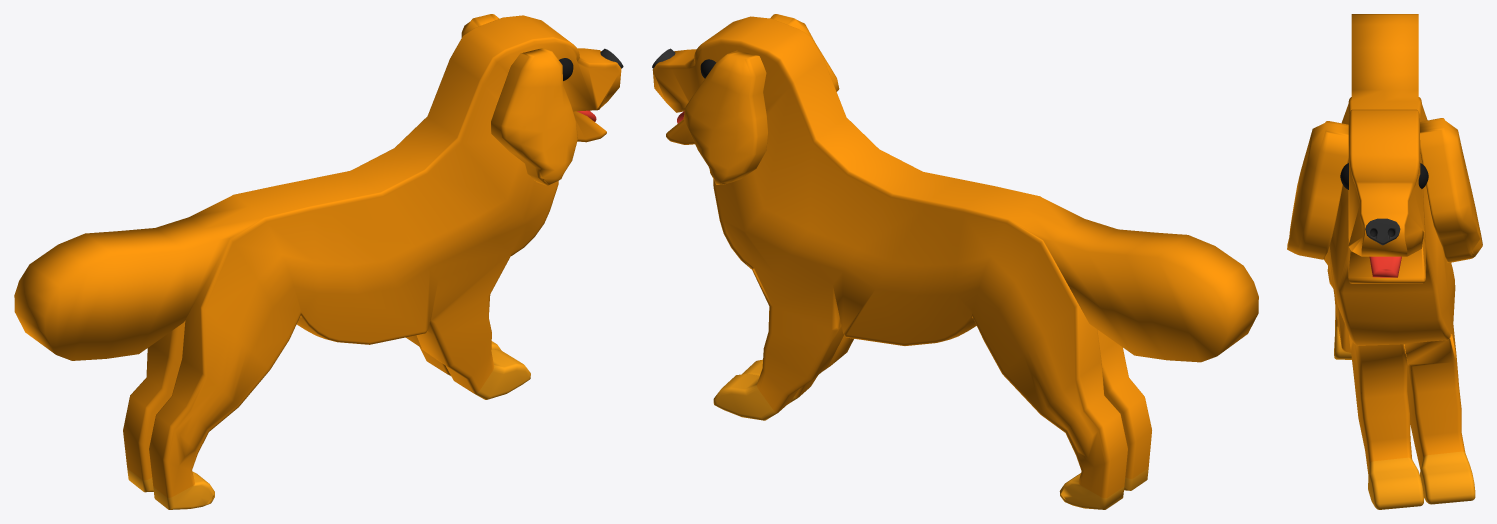
File: golden cinsi köpke (tatliş minnoş).fbx
3 renders of one model, left to right at view 1: azimuth 30°, elevation 25°; view 2: azimuth 150°, elevation 25°; view 3: azimuth 270°, elevation 25°, orthographic. The views are drawn at different scales.
Visible parts, largest first — view 1: Cube.003; view 2: Cube.003; view 3: Cube.003.
Part boxes in pixels (x1,y1,x2,y2): Cube.003: [14, 14, 623, 509]; Cube.003: [652, 14, 1258, 509]; Cube.003: [1287, 14, 1482, 509].
Size of the model in its own units: 478 by 295 by 126.
Materials: 1 (1 with a texture image).
